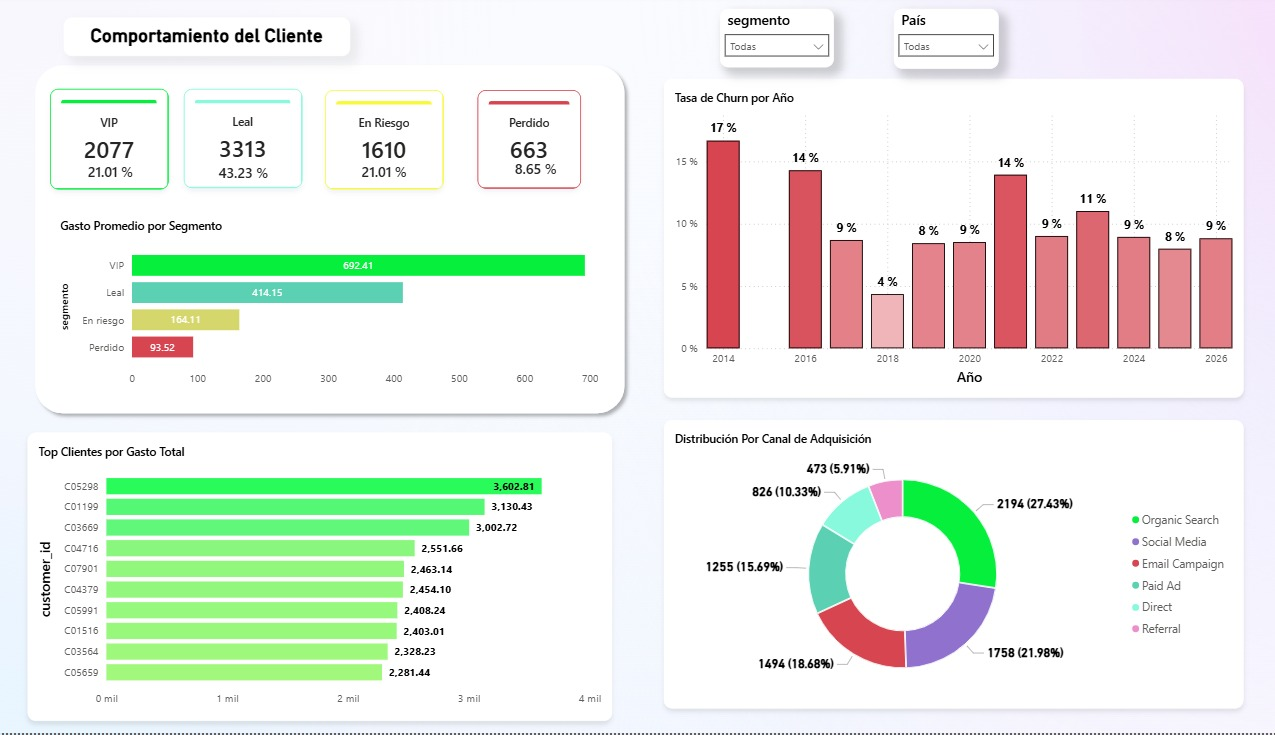

The dashboard page shown, as its layout file describes it:
{"tool":"powerbi","page":{"name":"Clientes","canvas":[1480,850],"ordinal":2},"visuals":[{"type":"shape","box":[31.9,66.6,700.8,421.3],"z":0,"group":"g1"},{"type":"barChart","title":"Top Clientes por Gasto Total","fields":{"Category":["rfm_segmentos.customer_id"],"Y":["Medidas.Top Clientes TSP"]},"box":[31.9,501.2,677.9,334.6],"z":0},{"type":"columnChart","fields":{"Category":["dim_customers.registration_date.Variación.Jerarquía de fechas.Año"],"Y":["Medidas.Tasa de Churn"]},"box":[769.2,91.3,672.1,369.4],"z":1000},{"type":"cardVisual","fields":{"Data":["CountNonNull(rfm_segmentos.customer_id)"]},"box":[58.1,102.4,137.2,116.6],"z":1000,"group":"g1"},{"type":"cardVisual","fields":{"Data":["CountNonNull(rfm_segmentos.customer_id)"]},"box":[213.2,102.4,137.2,115.3],"z":2000,"group":"g1"},{"type":"donutChart","title":"Distribución Por Canal de Adquisición","fields":{"Category":["dim_customers.acquisition_channel"],"Y":["Medidas.Total Clientes"]},"box":[769.2,486.7,672.1,334.6],"z":2000},{"type":"group","id":"g1","title":"Grupo 1","box":[31.9,66.6,700.8,421.3],"z":3000},{"type":"cardVisual","fields":{"Data":["CountNonNull(rfm_segmentos.customer_id)"]},"box":[376.5,103.8,137.2,115.3],"z":3000,"group":"g1"},{"type":"slicer","fields":{"Values":["rfm_segmentos.segmento"]},"box":[834.4,10.1,131.8,68.1],"z":4000},{"type":"cardVisual","fields":{"Data":["CountNonNull(rfm_segmentos.customer_id)"]},"box":[553.6,104.8,120.2,114.4],"z":4000,"group":"g1"},{"type":"slicer","fields":{"Values":["dim_customers.country"]},"box":[1035.7,10.1,121.7,69.5],"z":5000},{"type":"cardVisual","fields":{"Data":["Medidas.% En riesgo"]},"box":[73.2,164.2,108.4,65.9],"z":5000,"group":"g1"},{"type":"textbox","box":[73.9,20.3,331.7,44.9],"z":6000},{"type":"cardVisual","fields":{"Data":["Medidas.% Leal"]},"box":[226.9,171,109.8,52.1],"z":6000,"group":"g1"},{"type":"cardVisual","fields":{"Data":["Medidas.% En riesgo"]},"box":[376.5,166.9,137.2,60.4],"z":7000,"group":"g1"},{"type":"cardVisual","fields":{"Data":["Medidas.% Perdido"]},"box":[572.4,167.1,104.3,52.1],"z":8000,"group":"g1"},{"type":"barChart","title":"Gasto Promedio por Segmento","fields":{"Category":["rfm_segmentos.segmento"],"Y":["Avg(rfm_segmentos.total_spend)"],"Series":["rfm_segmentos.segmento"]},"box":[57.8,239.7,647.6,223.6],"z":9000,"group":"g1"}]}

Visuals, with their boxes in screenshot pixels (x1, y1, x2, y2), scaled from the page's 1480x850 canvas onto the 1275x735 screenshot:
shape: (27,58,631,422)
"Top Clientes por Gasto Total" barChart: (27,433,611,723)
columnChart - dim_customers.registration_date.Variación.Jerarquía de fechas.Año x Medidas.Tasa de Churn: (663,79,1242,398)
cardVisual - CountNonNull(rfm_segmentos.customer_id): (50,89,168,189)
cardVisual - CountNonNull(rfm_segmentos.customer_id): (184,89,302,188)
"Distribución Por Canal de Adquisición" donutChart: (663,421,1242,710)
"Grupo 1" group: (27,58,631,422)
cardVisual - CountNonNull(rfm_segmentos.customer_id): (324,90,443,189)
slicer - rfm_segmentos.segmento: (719,9,832,68)
cardVisual - CountNonNull(rfm_segmentos.customer_id): (477,91,580,190)
slicer - dim_customers.country: (892,9,997,69)
cardVisual - Medidas.% En riesgo: (63,142,156,199)
textbox: (64,18,349,56)
cardVisual - Medidas.% Leal: (195,148,290,193)
cardVisual - Medidas.% En riesgo: (324,144,443,197)
cardVisual - Medidas.% Perdido: (493,144,583,190)
"Gasto Promedio por Segmento" barChart: (50,207,608,401)
